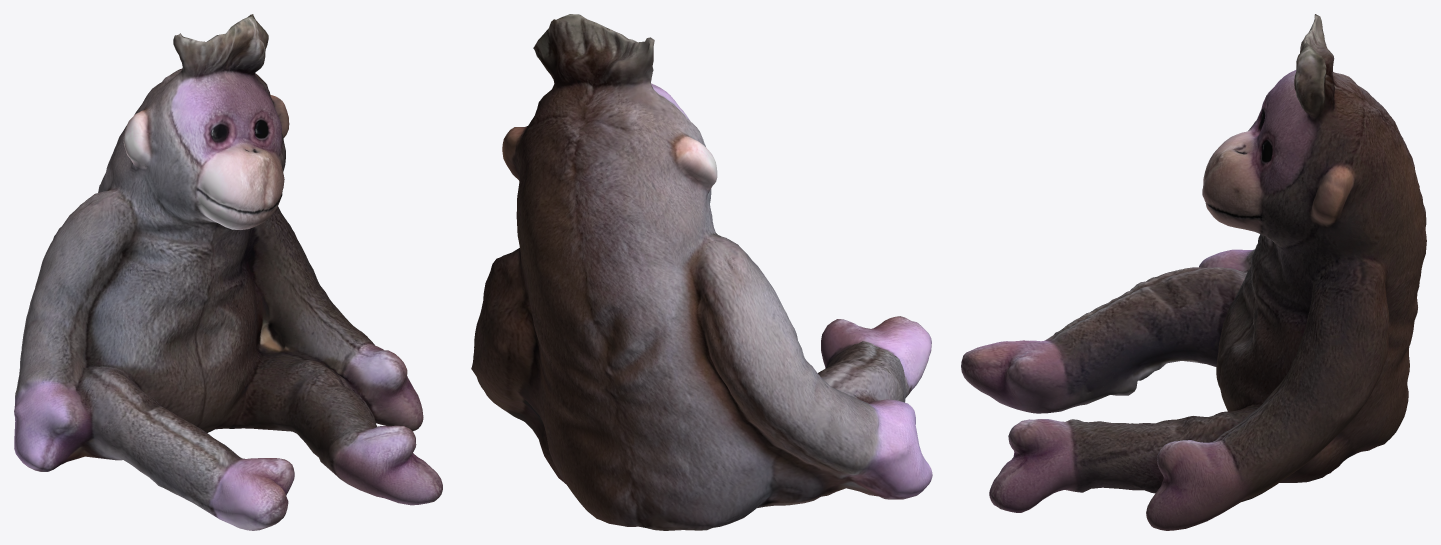
The model's file is arch_monkey.glb.
3 views of the same model, side by side, from view 1: azimuth 30°, elevation 25°; view 2: azimuth 150°, elevation 25°; view 3: azimuth 270°, elevation 25° (orthographic). The views are drawn at different scales.
Parts seen in each view (by area): view 1: ObjectCapture; view 2: ObjectCapture; view 3: ObjectCapture.
Boxes of the visible parts, x1=… form: ObjectCapture: x1=14, y1=14, x2=442, y2=530; ObjectCapture: x1=471, y1=14, x2=932, y2=530; ObjectCapture: x1=961, y1=14, x2=1426, y2=530.
Size of the model in its own units: 0.1579 by 0.1616 by 0.1549.
Materials: 1 (1 with a texture image).
